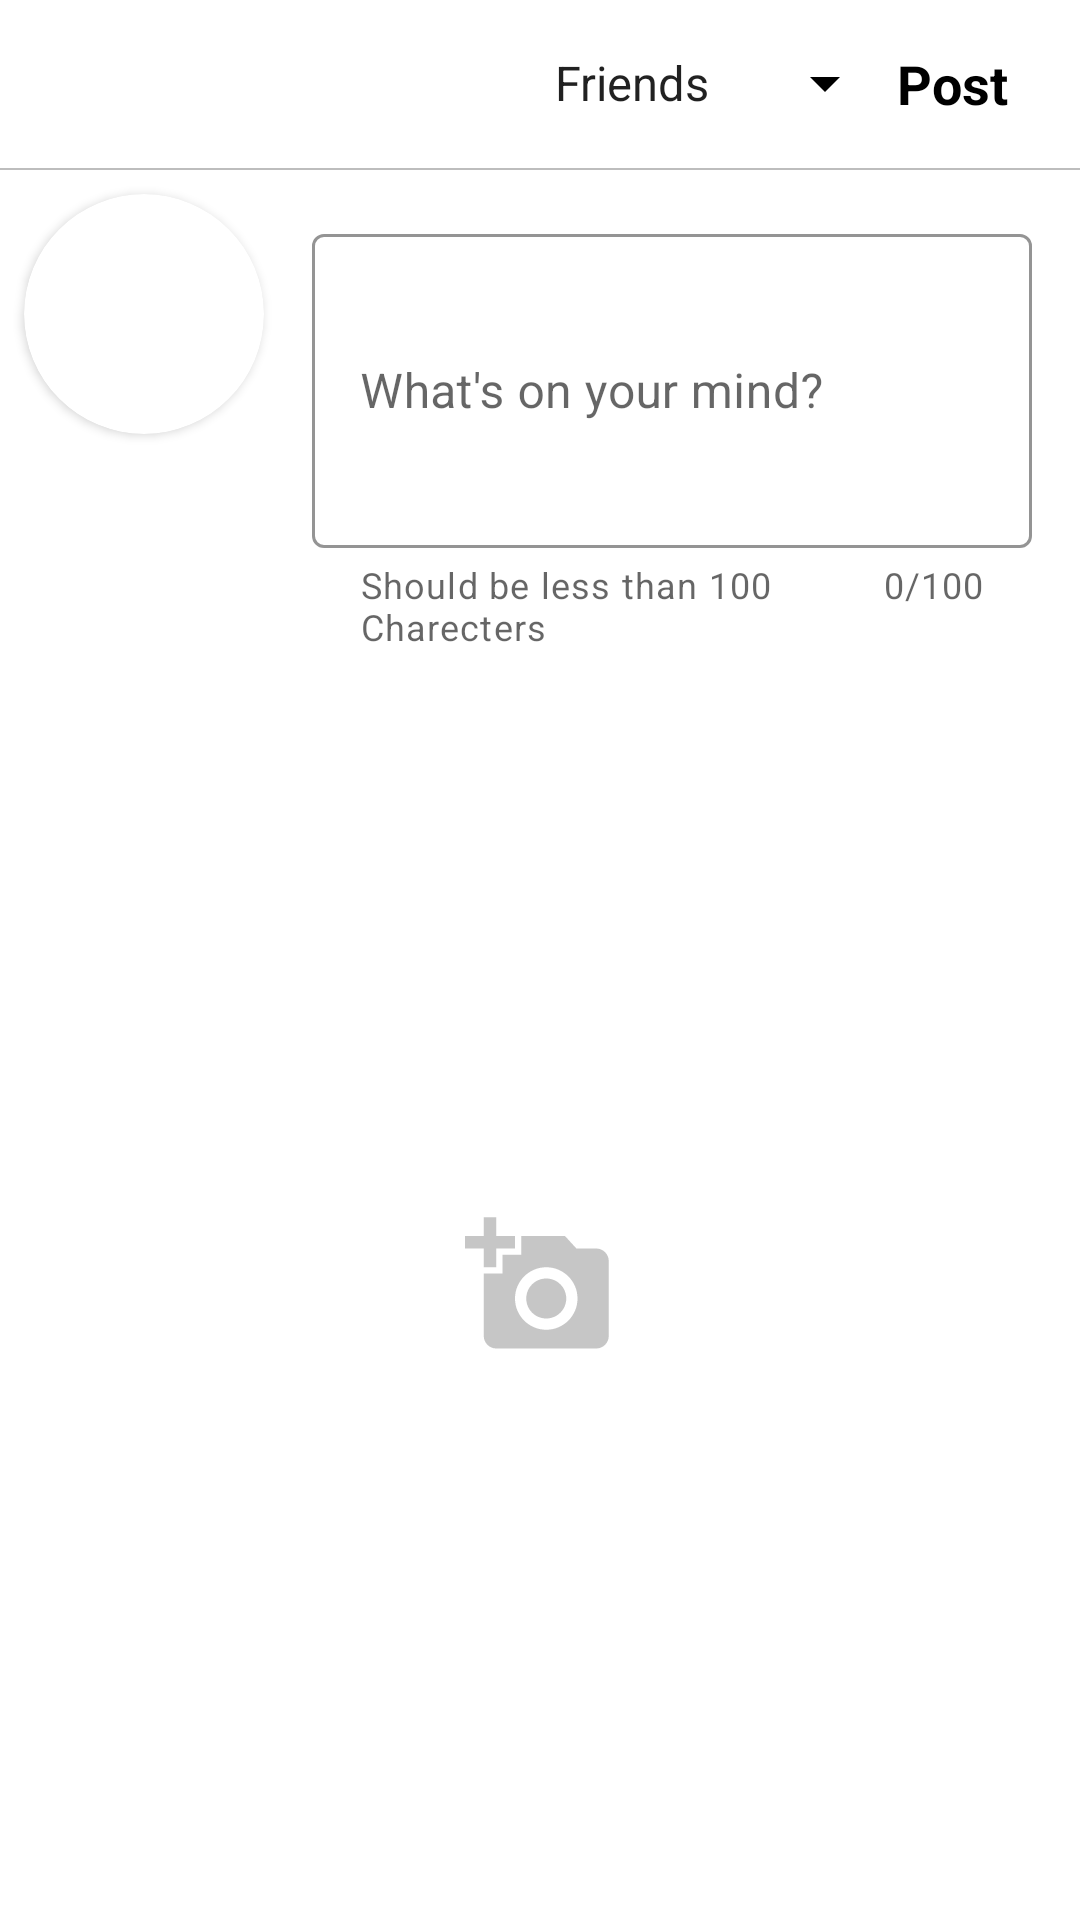

Screen size 1080w x 1920h. Icon name, then its box in pixels as bbox(x1, y1, x2, y2):
add photo: bbox(465, 1217, 609, 1349)
